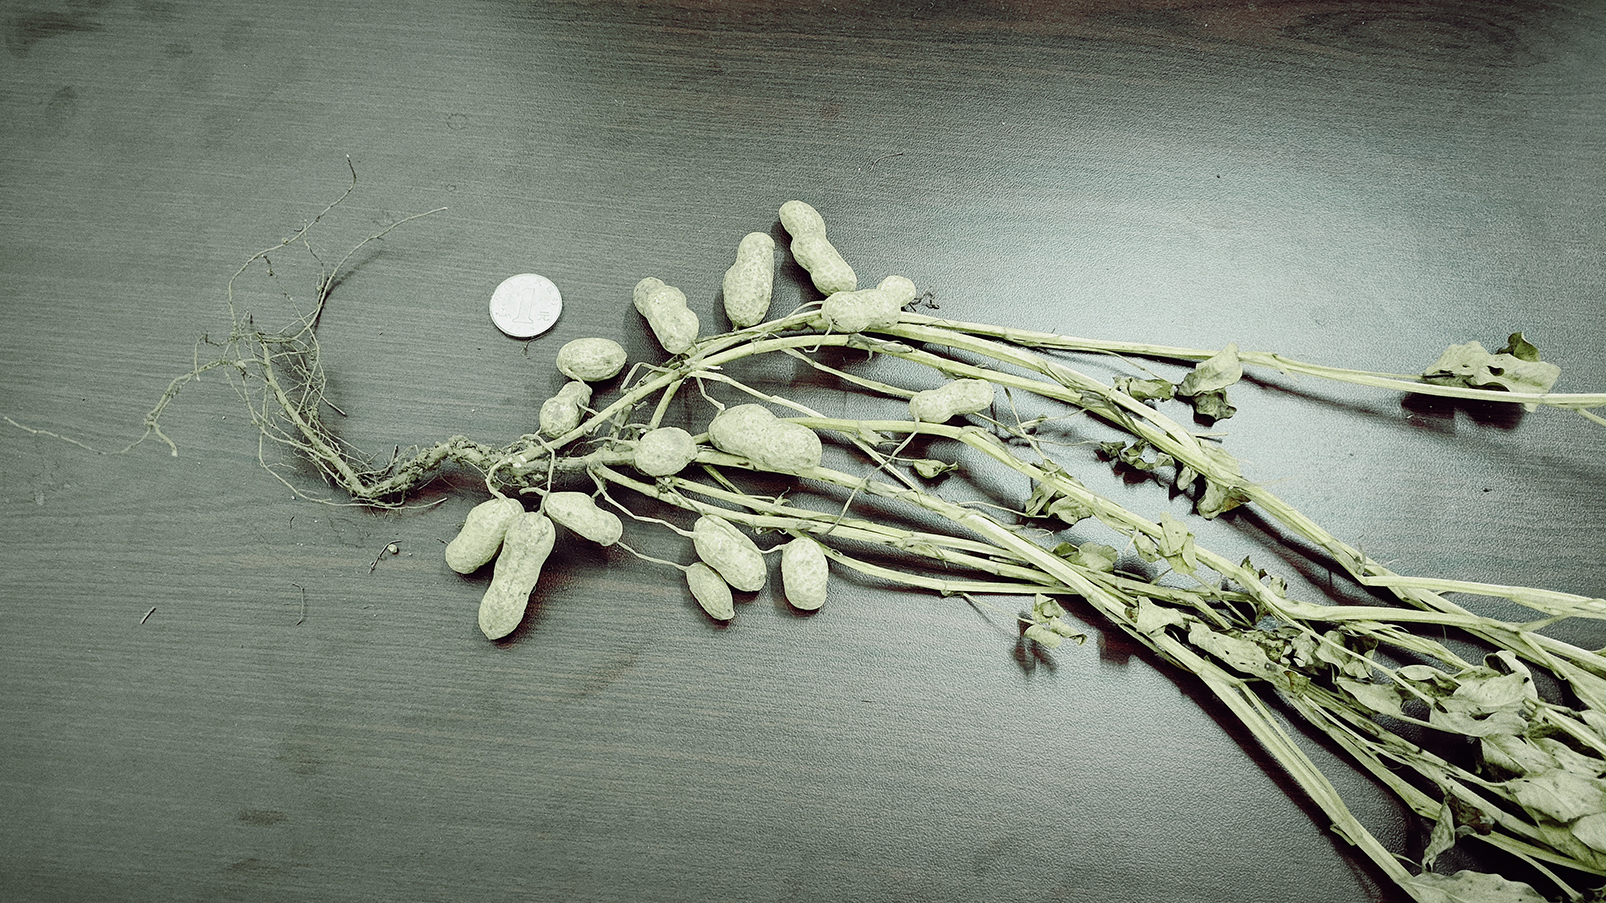h: (479, 514, 555, 643), (709, 402, 822, 476), (779, 197, 857, 294), (445, 499, 524, 576), (694, 514, 765, 593), (632, 276, 702, 356), (821, 275, 917, 332), (722, 230, 777, 327), (544, 491, 625, 547), (910, 378, 998, 424), (784, 535, 831, 613), (554, 336, 627, 381), (634, 426, 697, 476), (538, 381, 595, 437), (685, 563, 737, 622)
